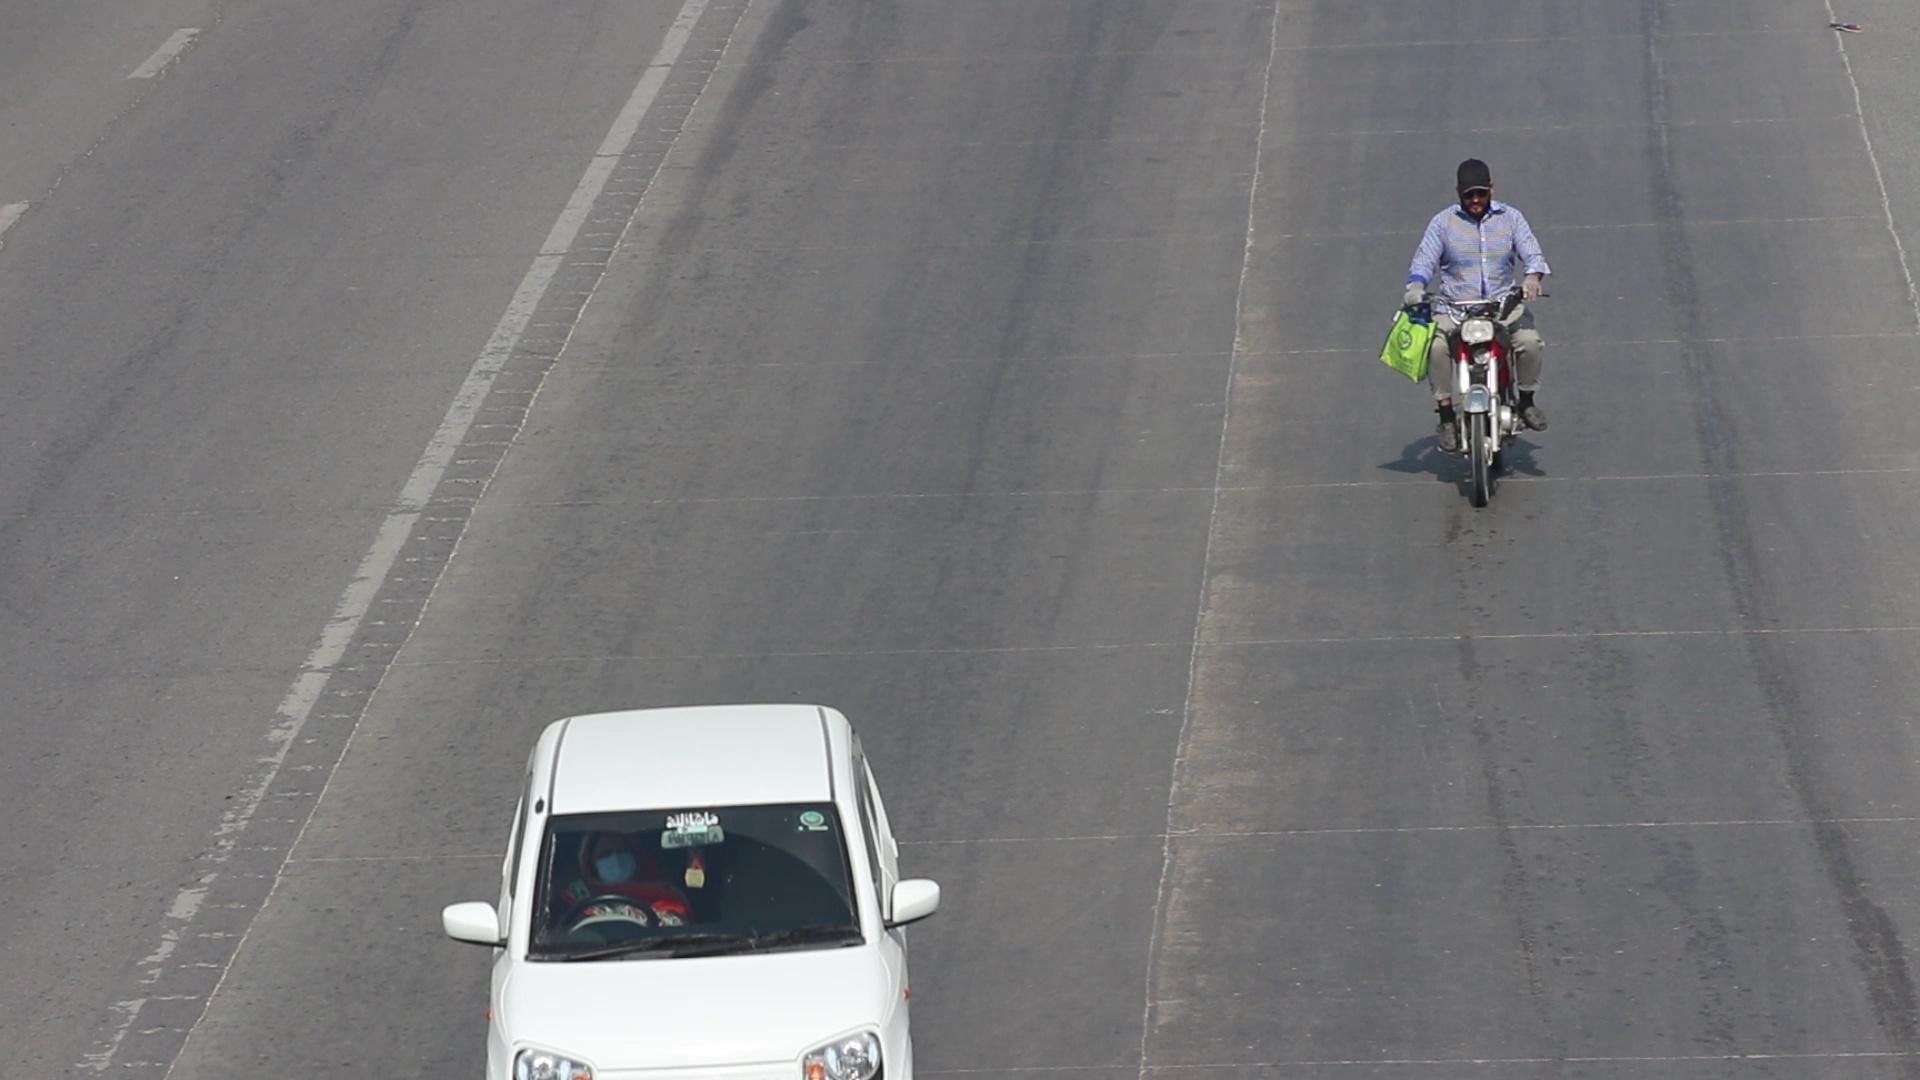windshield: (508, 796, 864, 973)
